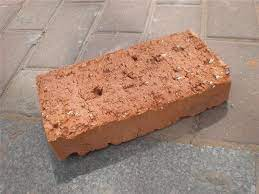brick: (31, 27, 233, 163)
